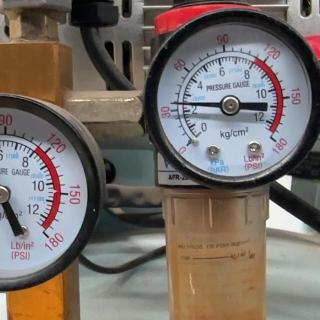gauge: (143, 2, 320, 196), (0, 90, 106, 296), (28, 220, 60, 251), (219, 94, 241, 116), (178, 133, 200, 155), (264, 129, 284, 151), (0, 184, 12, 204), (166, 99, 178, 107)
